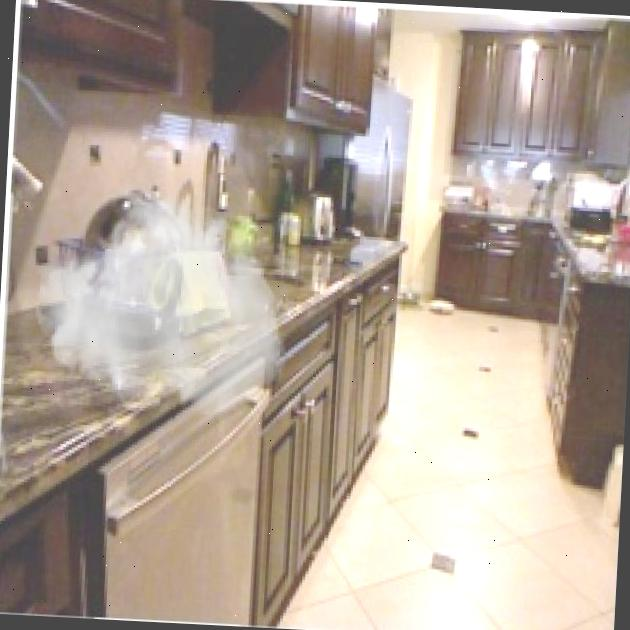smoke: (29, 176, 298, 422)
